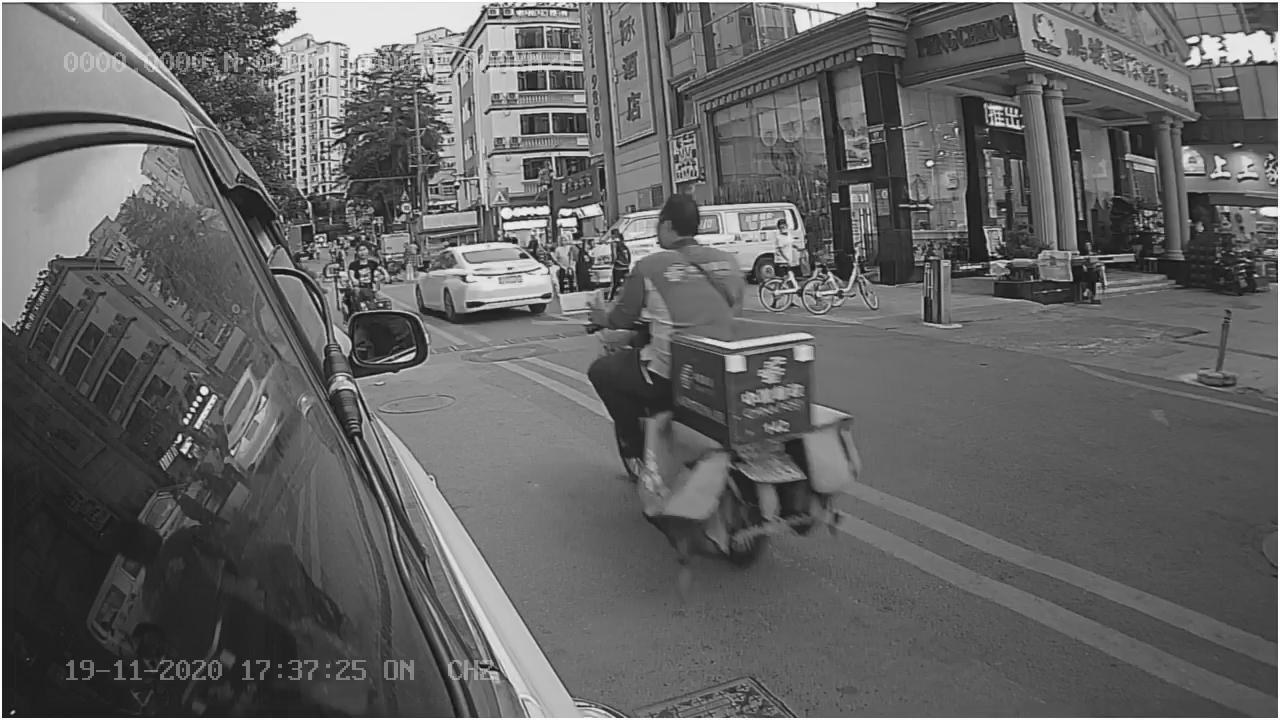person: (612, 193, 747, 315)
